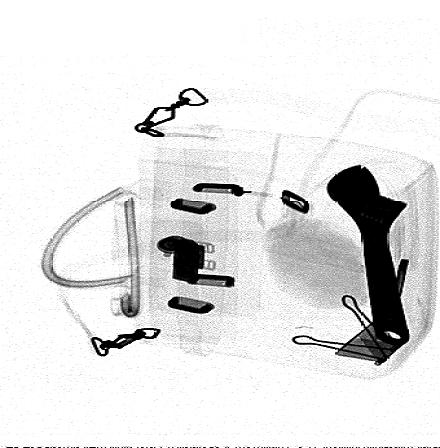Wrench: (324, 163, 410, 347)
